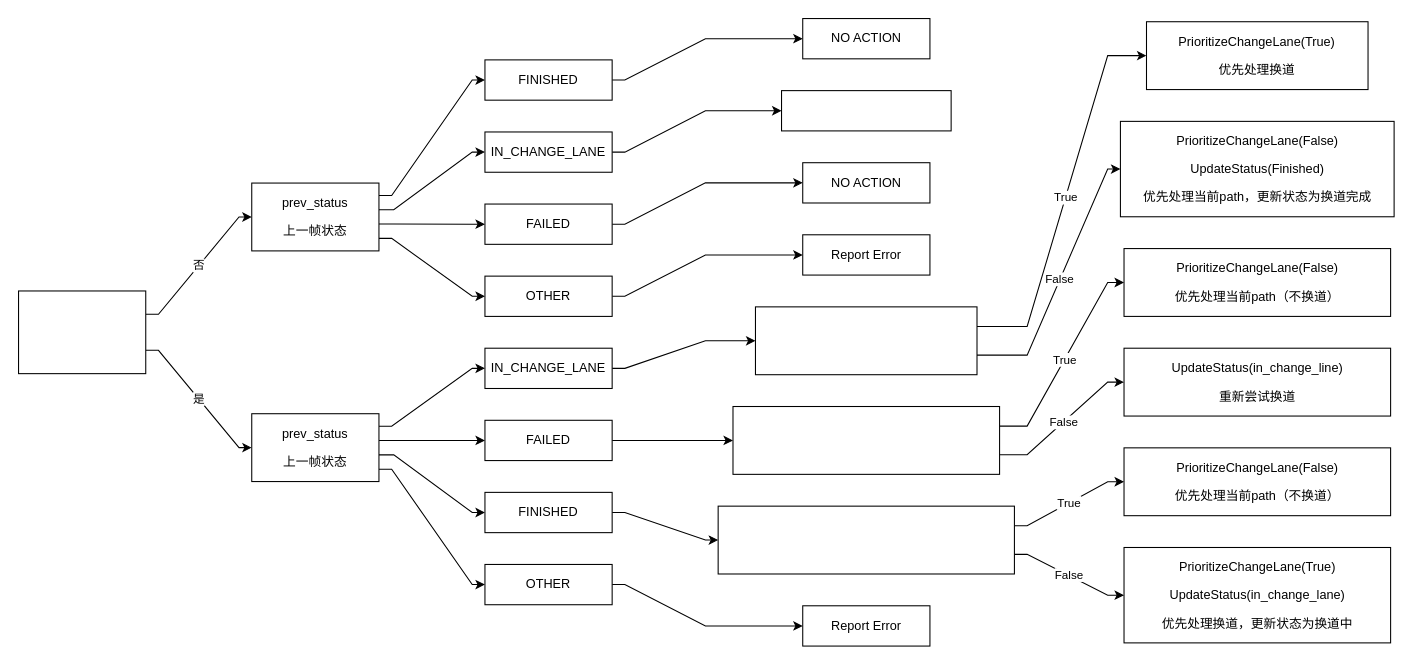
The diagram is 1413 pixels wide and 665 high, and some of its shapes have lost their labels. The centre of each missing label's shape, as x and y in pixels:
has_change_lane （是否有多条参考线）: the point at 81,332
now_time - prev_time < fail_freeze_time 当前到上次失败的时间小于freeze_time(1s)？: the point at 866,439
now_time - prev_time < success_freeze_time 当前到上次成功的时间小于success_time(1.5s)？: the point at 865,539
prev_status_id == current_path_id 是否接近目标path: the point at 865,340
UpdateStatus(Finished): the point at 865,110
